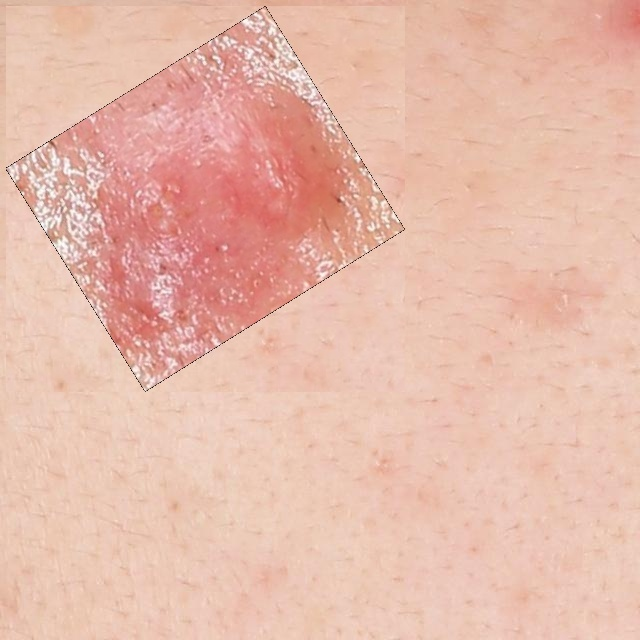nodule: (17, 17, 394, 380)
